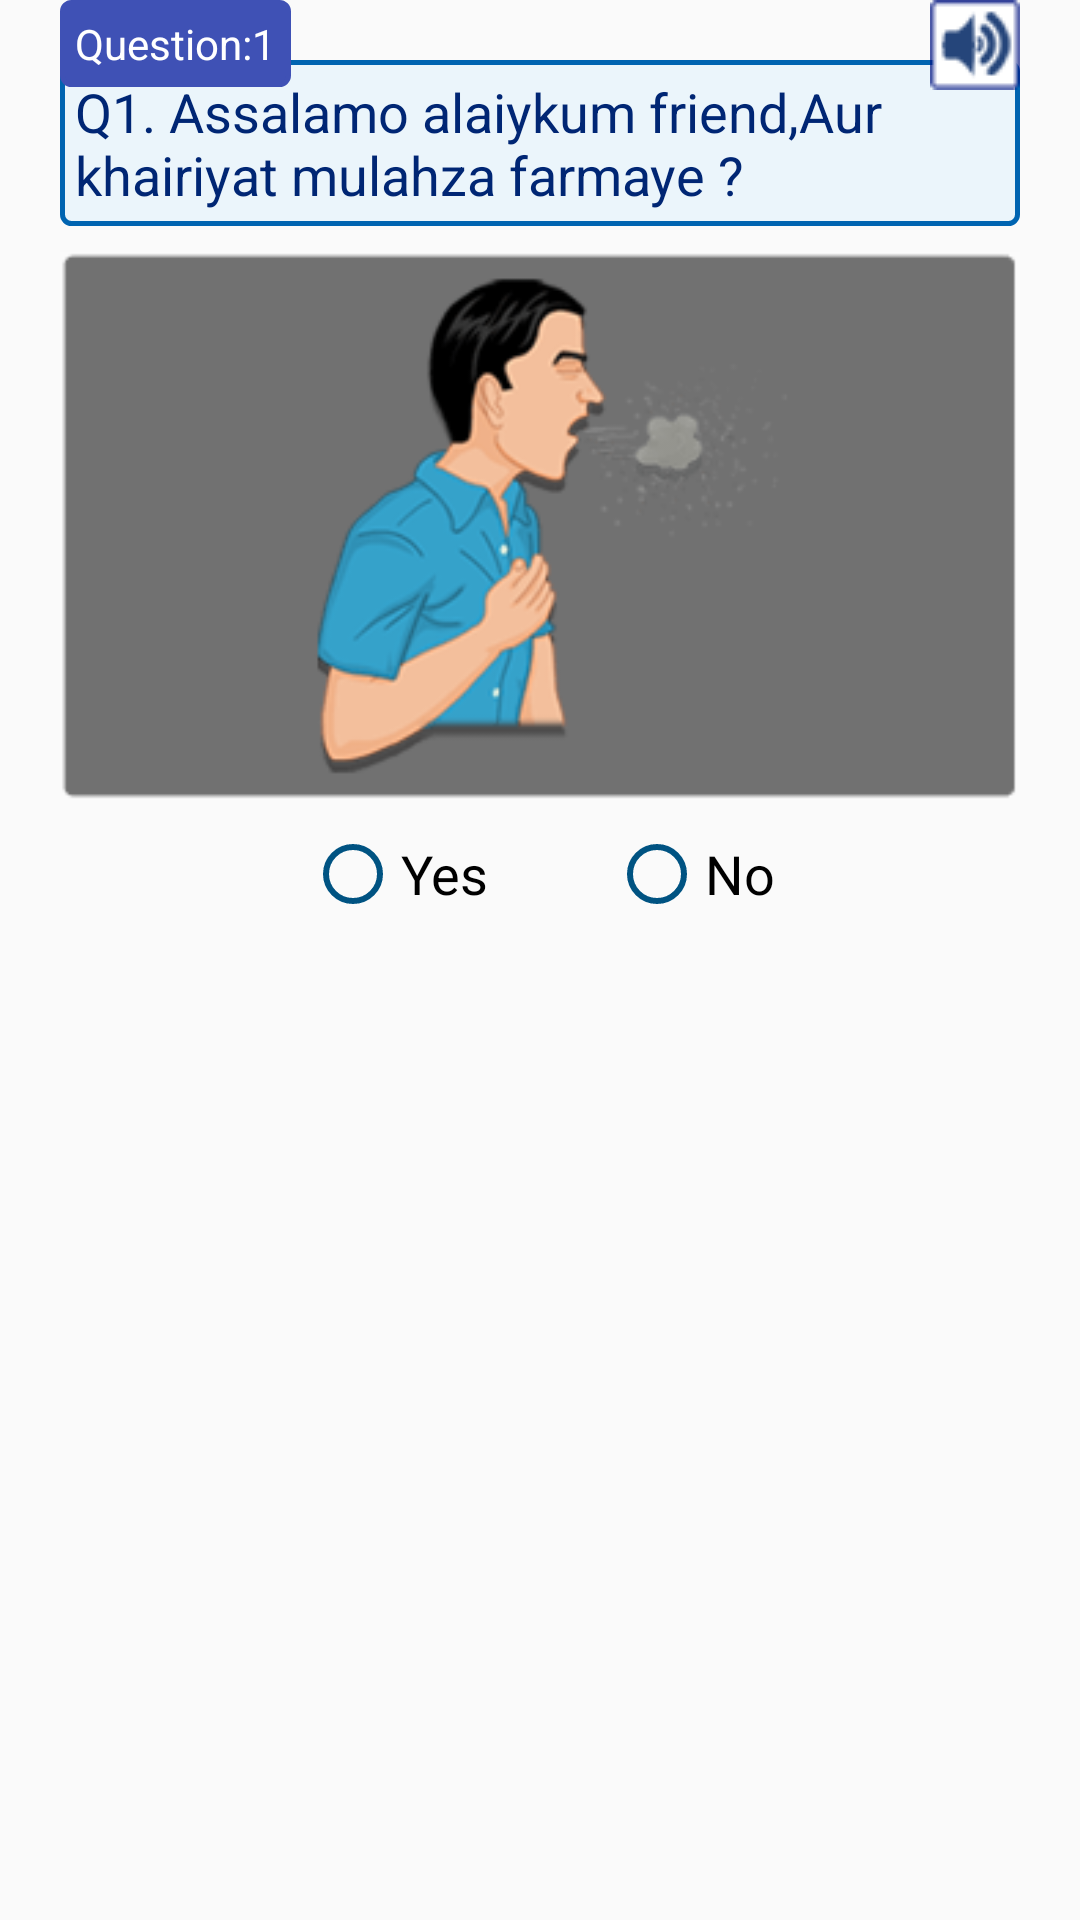

Icons on this 1080px x 1920px Android screen, each with the point to tap as (x=x, y=y):
speaker on: (x=976, y=43)
